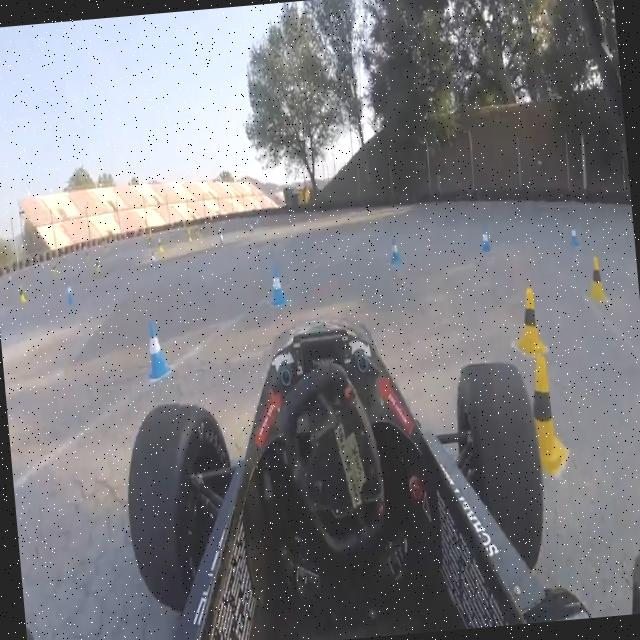blue_cone: (137, 311, 174, 394), (260, 250, 294, 322), (383, 224, 408, 270), (474, 215, 494, 258), (564, 212, 582, 247)
yellow_cone: (518, 352, 576, 479), (514, 278, 553, 352), (584, 245, 611, 302)
